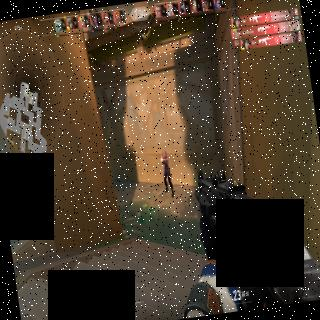ENEMY-BODY: (159, 146, 175, 198)
ENEMY-HEAD: (162, 148, 166, 158)
